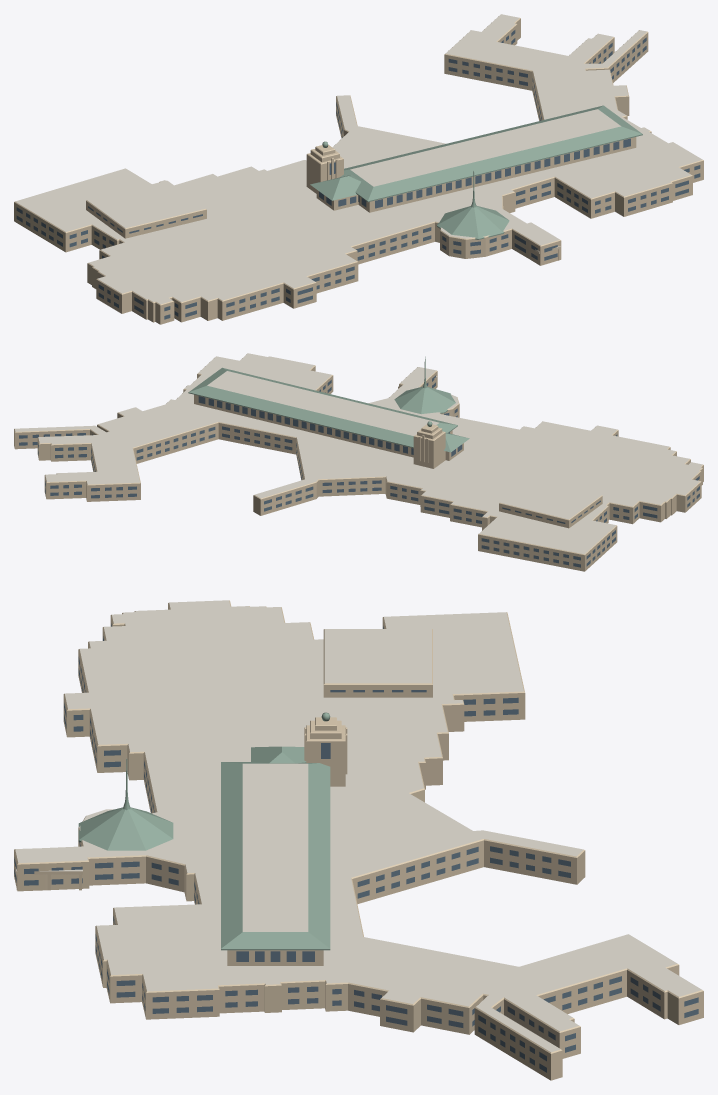
Rendered from phx-arizona-biltmore.glb.
3 renders of one model, top to bottom at view 1: azimuth 30°, elevation 25°; view 2: azimuth 150°, elevation 25°; view 3: azimuth 270°, elevation 25°, orthographic. The views are drawn at different scales.
Parts seen in each view (by area): view 1: Arizona Biltmore; view 2: Arizona Biltmore; view 3: Arizona Biltmore.
Part boxes in pixels (box(x1,y1,x2,y2)): Arizona Biltmore: box(14, 14, 703, 324); Arizona Biltmore: box(14, 353, 703, 571); Arizona Biltmore: box(14, 600, 703, 1080).
Bounding box in the file's own units: 245 × 25.4 × 158.
